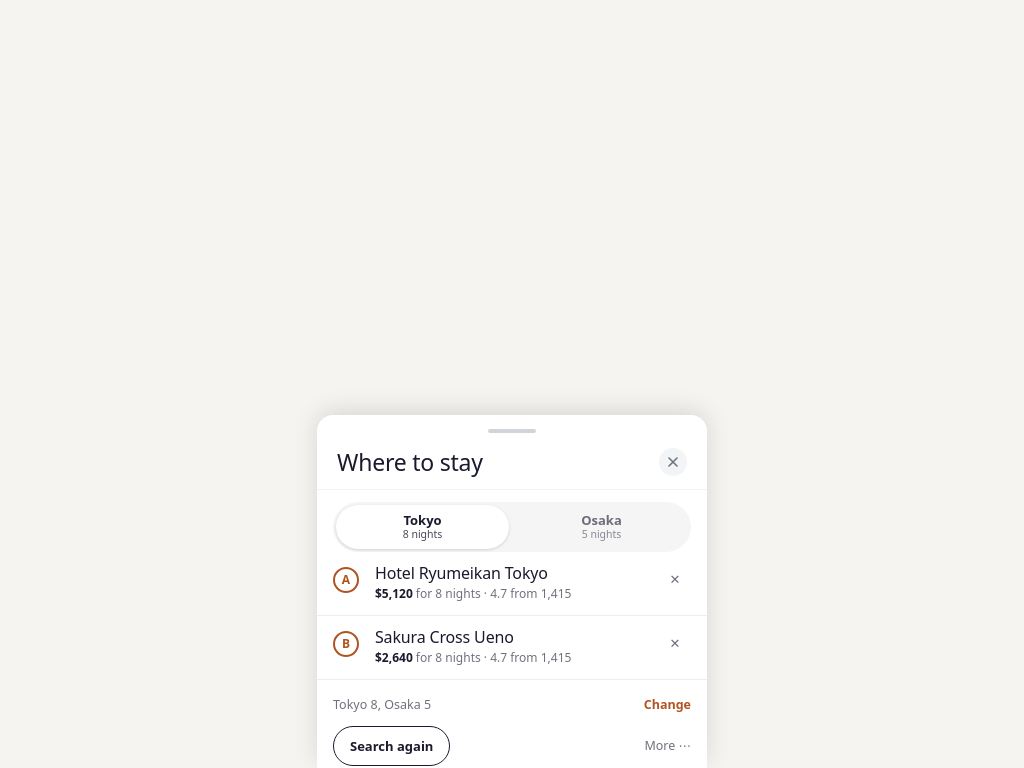
Scenario: a listing he found himself › keeps the paste fields folded away until asked for
Expected: the button "Paste a listing" is not shown
Click the button "More ⋯" at [668, 746], box x1=644 y1=737 x2=691 y2=756
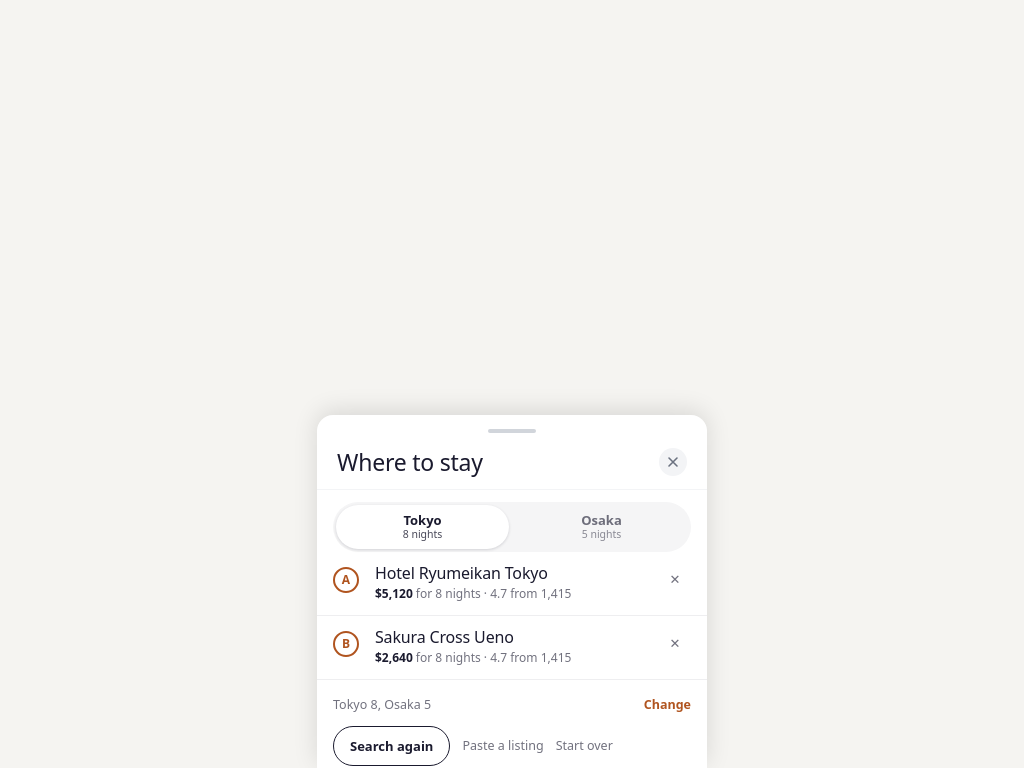
Expected: the field labelled "Link to the listing" is not shown
Click the button "Paste a listing" at [503, 746], box x1=462 y1=737 x2=544 y2=756
(page scrolled)
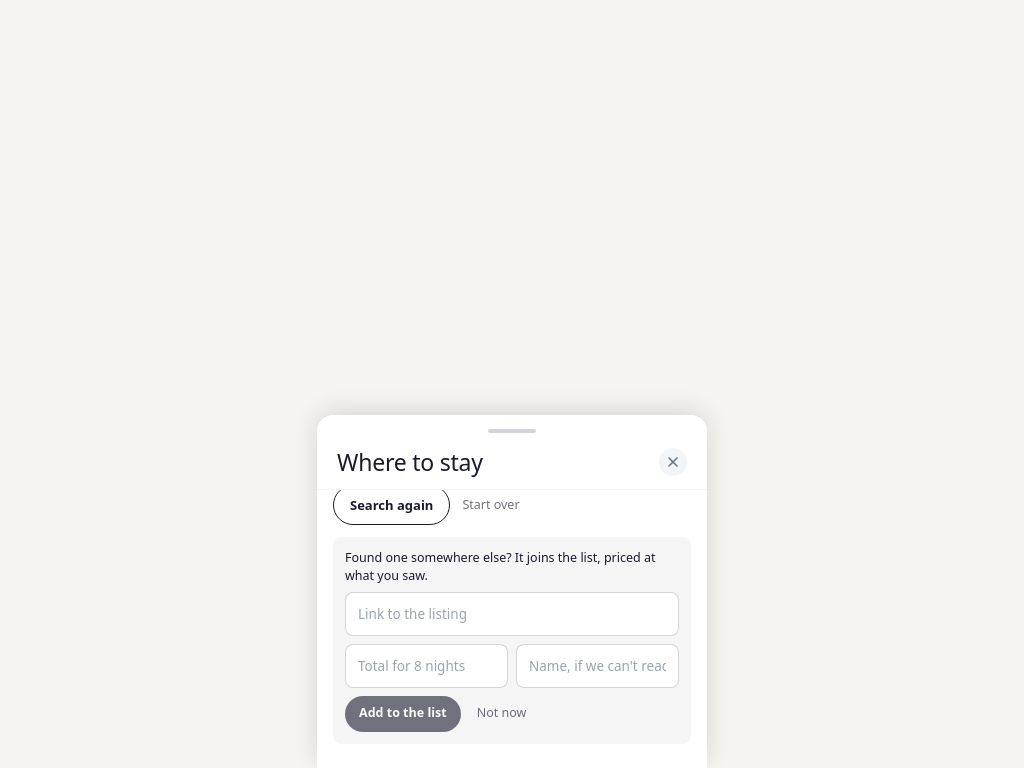
Expected: the field labelled "Link to the listing" is shown, x1=345 y1=592 x2=679 y2=636
Expected: the field named "Total price you saw" is shown, x1=345 y1=644 x2=508 y2=688
Expected: the button "Add to the list" is disabled, x1=345 y1=696 x2=461 y2=732
